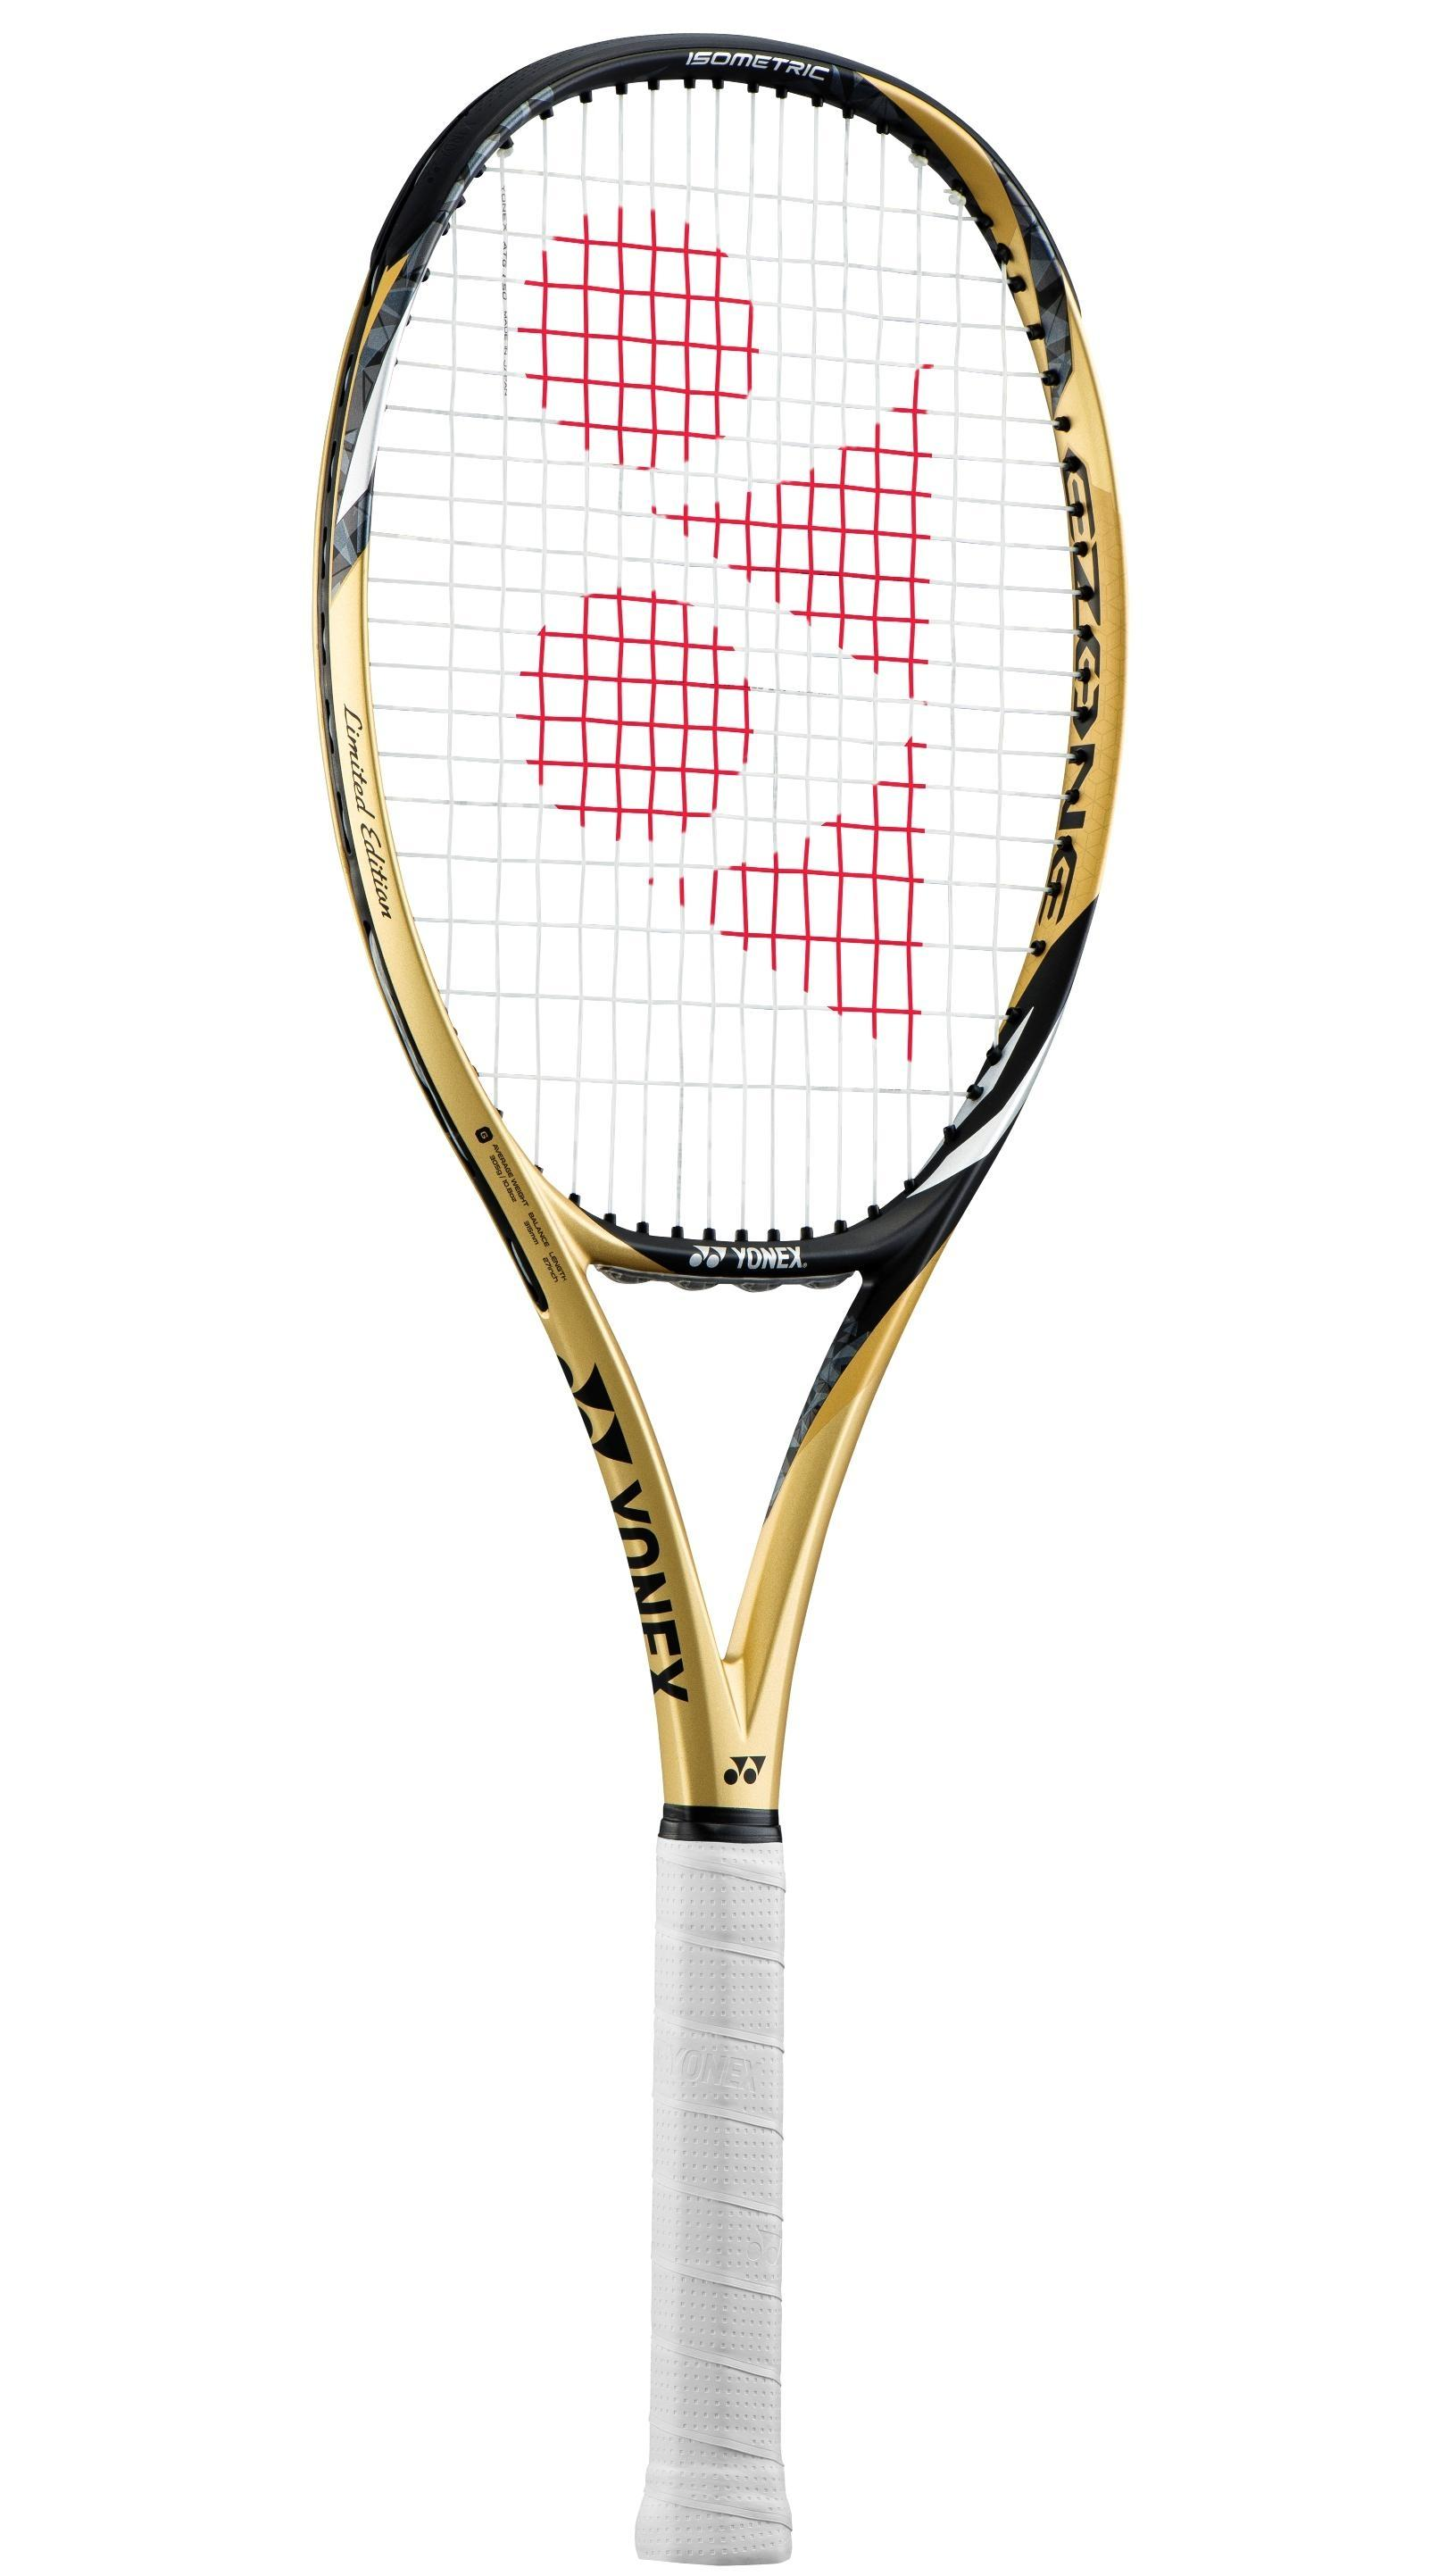Tennis-Racket: (317, 35, 1122, 2562)
